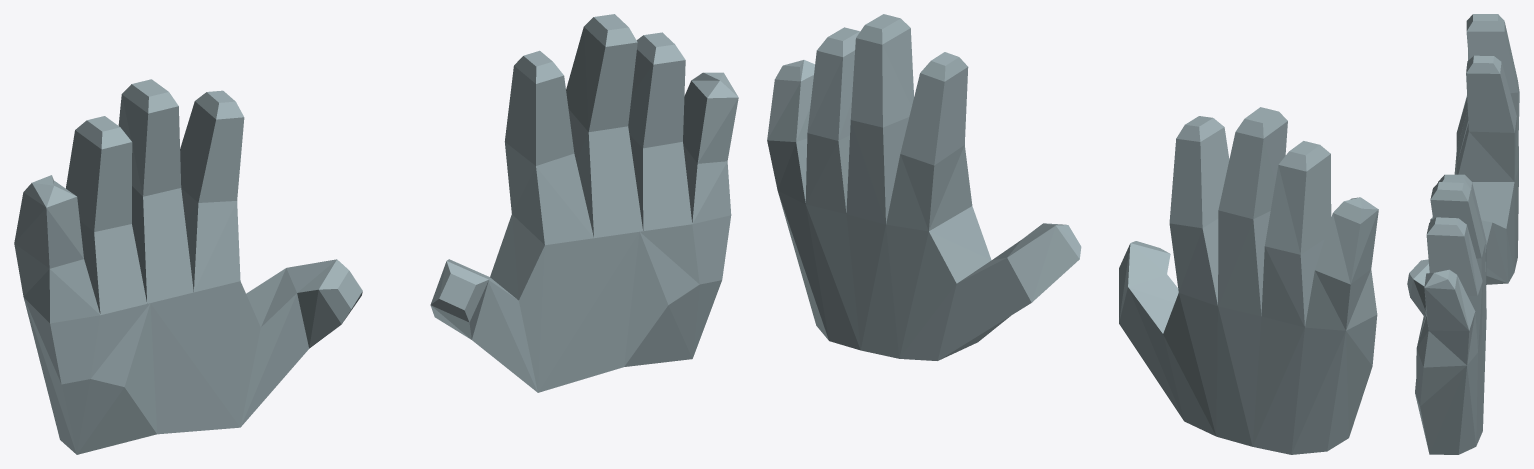
3 views of the same model, side by side, from view 1: azimuth 30°, elevation 25°; view 2: azimuth 150°, elevation 25°; view 3: azimuth 270°, elevation 25° (orthographic). The views are drawn at different scales.
Visible parts, largest first — view 1: group589964233, group1380155712; view 2: group589964233, group1380155712; view 3: group1380155712, group589964233.
Boxes of the visible parts, x1,y1,x2,y2 form: group589964233: (14, 79, 362, 454); group1380155712: (430, 14, 738, 392); group589964233: (1119, 107, 1378, 454); group1380155712: (767, 14, 1081, 360); group1380155712: (1407, 174, 1486, 454); group589964233: (1430, 14, 1519, 284).
Bounding box in the file's own units: 0.5725 × 0.3005 × 0.1166.
